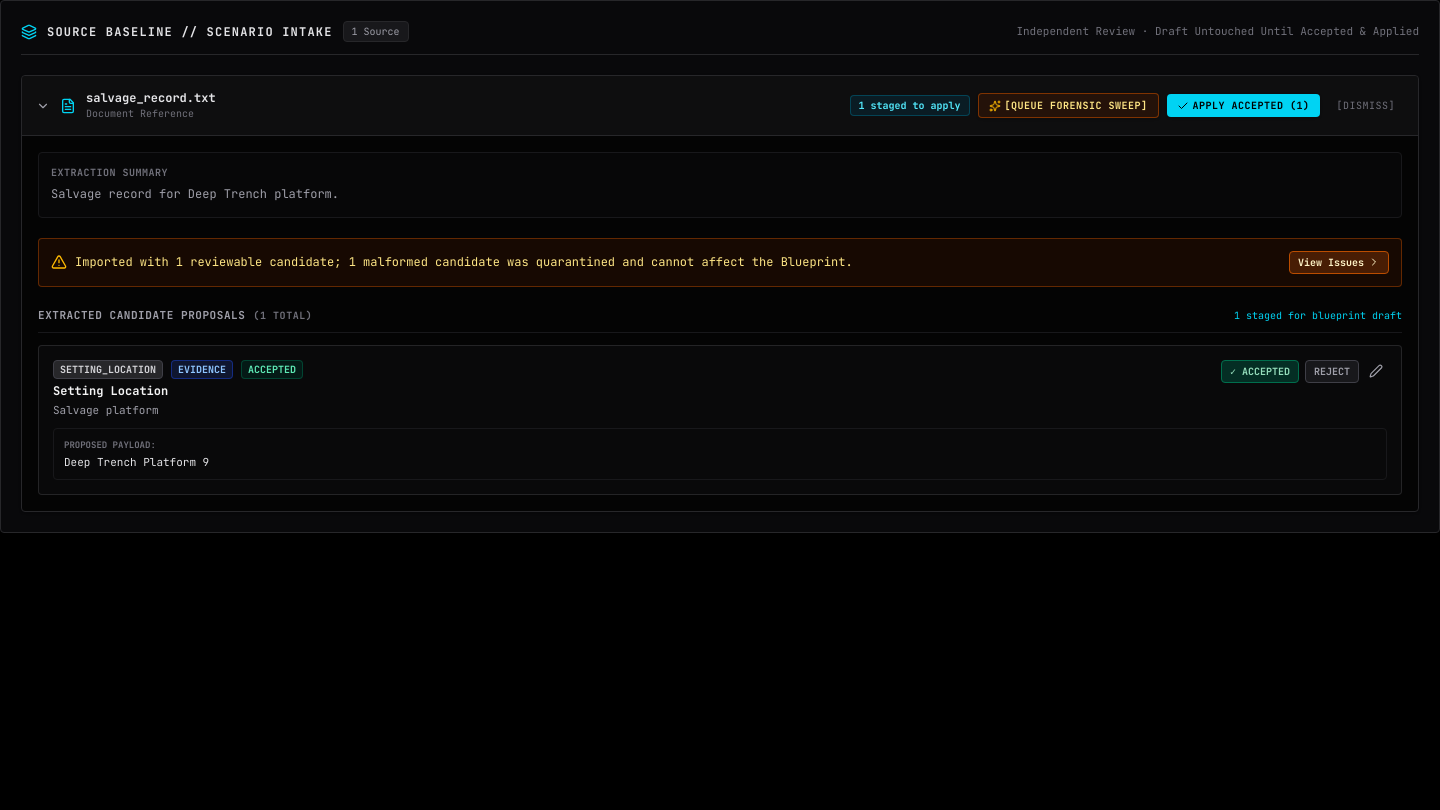
ScenarioBaselinePanel Candidate Atomicity Proof › renders quarantine summary banner and expandable extraction issues for completed_with_issues analysis
The image size is (1440, 810).
Expected: the element that starts with "Imported with" shows "Imported with 1 reviewable candidate", [38, 238, 1402, 287]
Expected: the element that starts with "Imported with" shows "1 malformed candidate was quarantined", [38, 238, 1402, 287]
Click the button with id "toggle-issues-btn-analysis-quarantine-1". click: (1339, 262)
box: [1289, 251, 1389, 274]
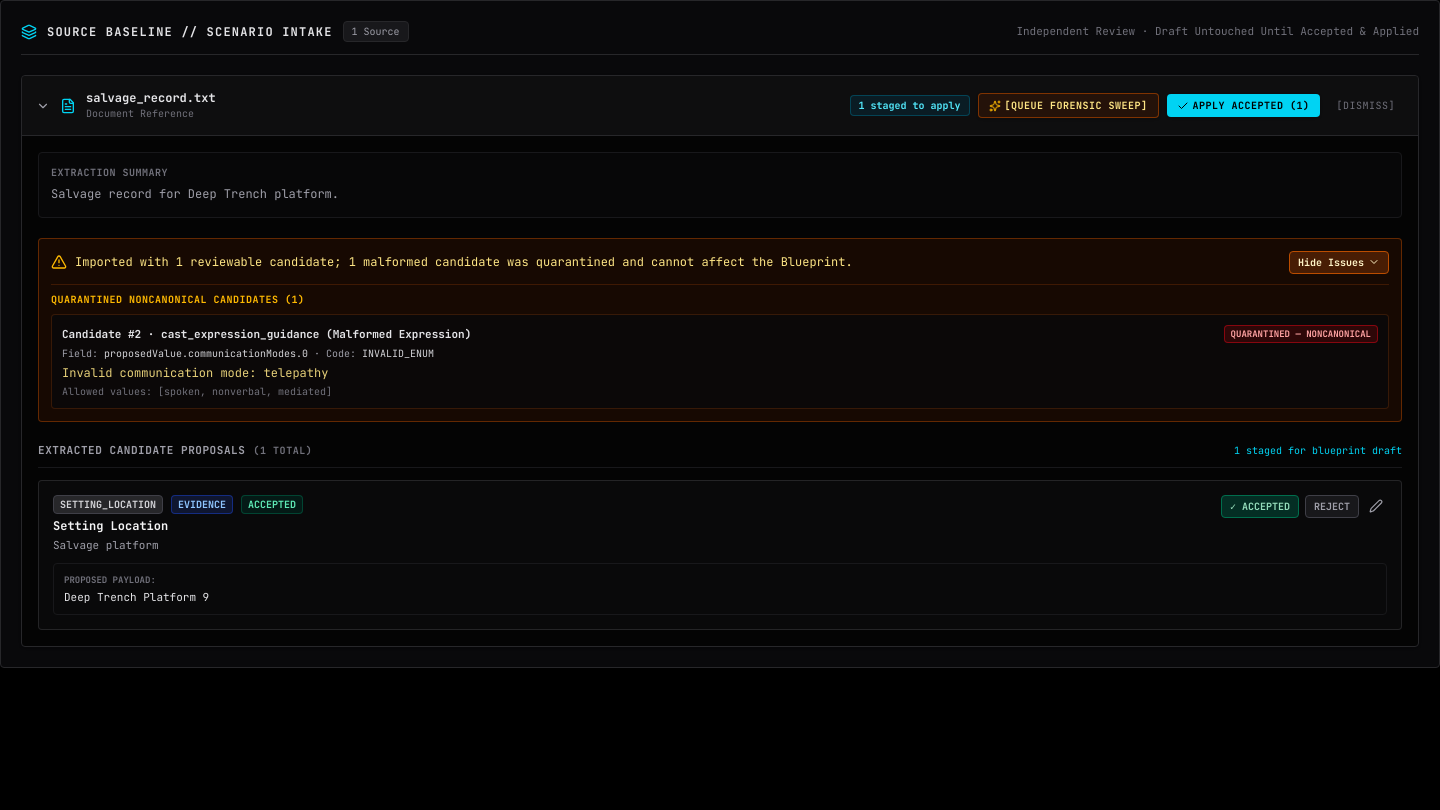
Expected: the element that starts with "Candidate #" shows "Candidate #2", [51, 314, 1389, 409]
Expected: the element that starts with "Candidate #" shows "cast_expression_guidance", [161, 327, 319, 341]
Expected: the element that starts with "Candidate #" shows "QUARANTINED — NONCANONICAL", [51, 314, 1389, 409]
